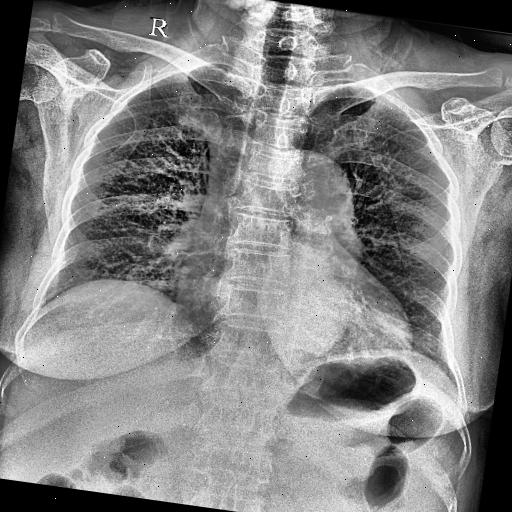0- Aortic enlargement: (176, 132, 378, 360), (176, 156, 398, 272), (190, 130, 382, 264)
3- Cardiomegaly: (156, 254, 436, 369)
